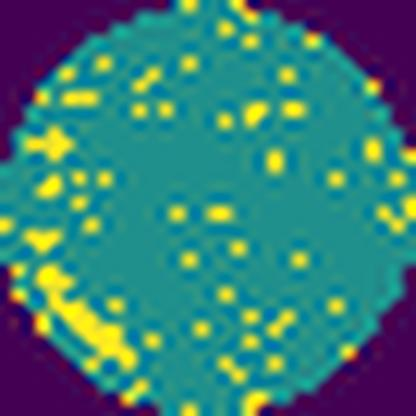Loc: (37, 262, 141, 370)
